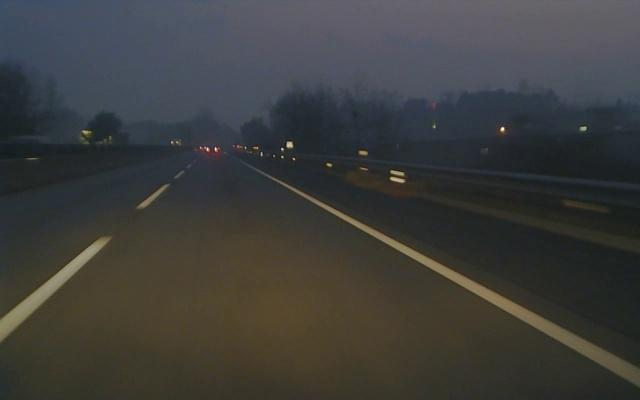lane: (257, 170, 640, 391), (0, 169, 185, 343)
